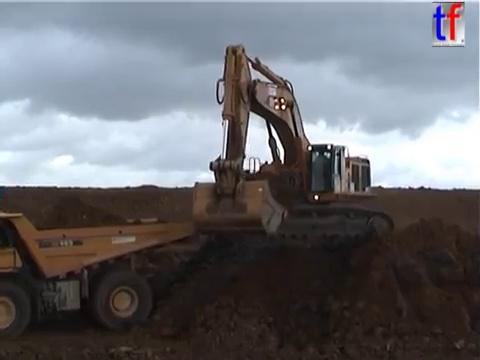excavator: (188, 41, 399, 253)
truck: (1, 209, 196, 340)
